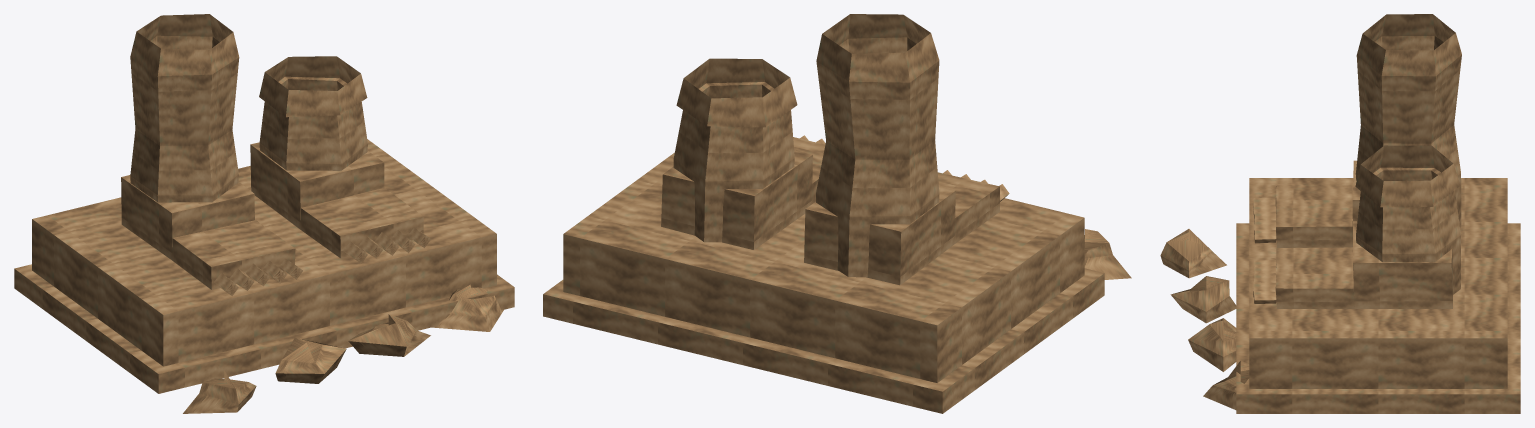
File: Colossus_Feet_1_LOD1.gltf
3 renders of one model, left to right at view 1: azimuth 30°, elevation 25°; view 2: azimuth 150°, elevation 25°; view 3: azimuth 270°, elevation 25°, orthographic. The views are drawn at different scales.
Parts seen in each view (by area): view 1: Colossus_Feet_1_LOD1; view 2: Colossus_Feet_1_LOD1; view 3: Colossus_Feet_1_LOD1.
Boxes of the visible parts, x1=… form: Colossus_Feet_1_LOD1: x1=14, y1=14, x2=514, y2=413; Colossus_Feet_1_LOD1: x1=543, y1=14, x2=1131, y2=413; Colossus_Feet_1_LOD1: x1=1160, y1=14, x2=1520, y2=413.
Bounding box in the file's own units: 4.7 × 3.44 × 4.18.
1 material, 1 textured.
